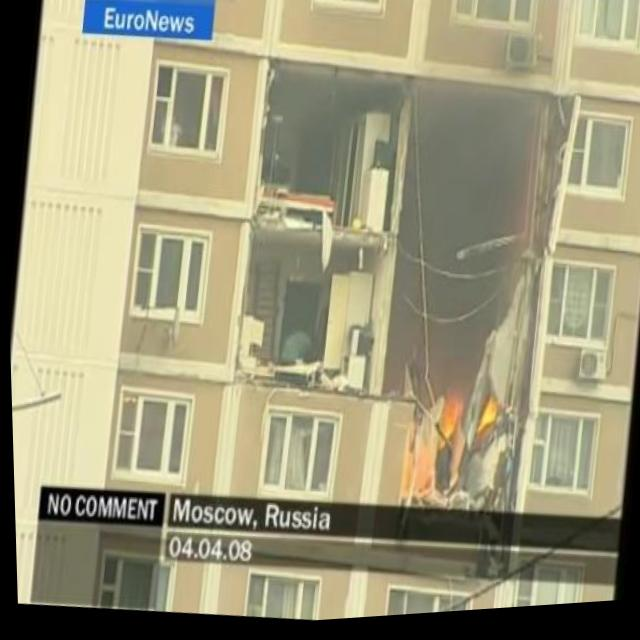fire: (427, 384, 468, 462), (474, 395, 501, 447)
